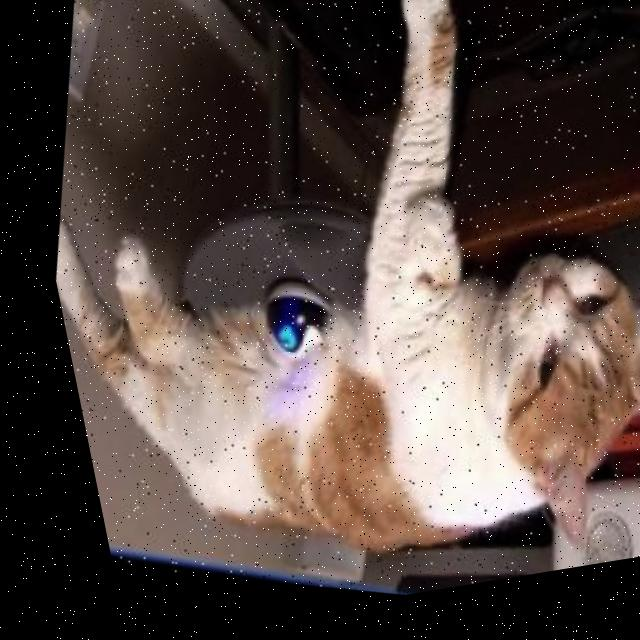mause: (196, 230, 361, 409)
